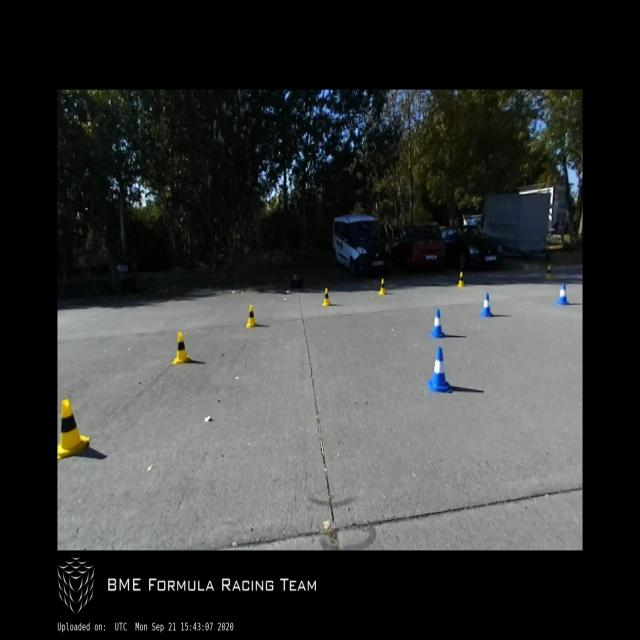blue_cone: (429, 348, 451, 392), (430, 310, 445, 337), (480, 294, 492, 317), (556, 284, 568, 304)
yellow_cone: (58, 399, 90, 461), (172, 332, 191, 364), (246, 304, 257, 328), (323, 289, 331, 306), (379, 279, 387, 295), (458, 272, 464, 287), (546, 266, 551, 280)
